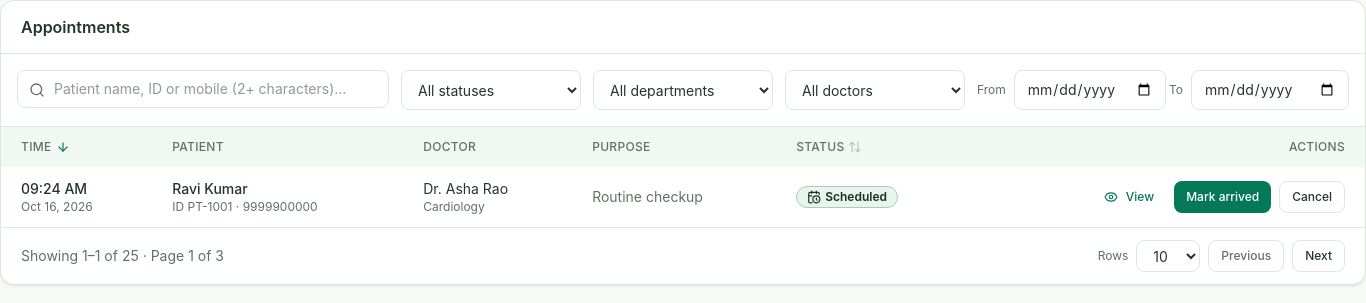
AppointmentList: server-side query › paginates on the server
Check: the text "Ravi Kumar" is shown, box [172,180,248,197]
Check: the button "Previous" is disabled, box [1208,240,1284,272]
Click the button "Next" at (1319, 256), box [1292,240,1345,272]
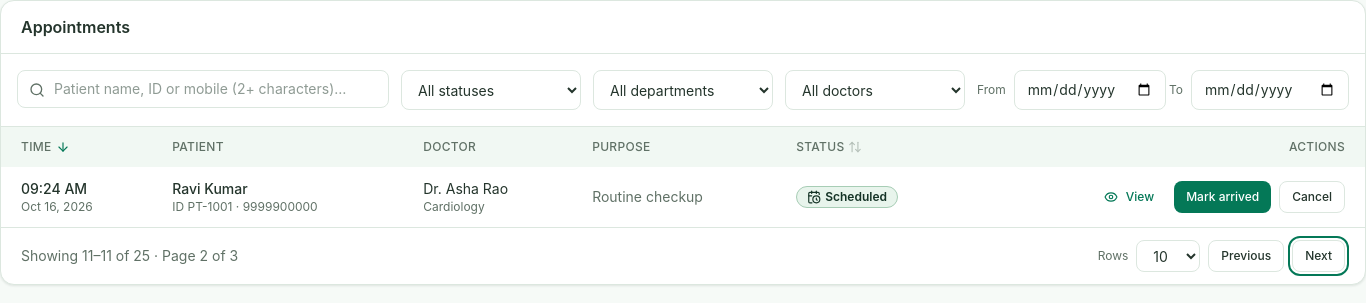
Check: the button "Previous" is enabled, box [1208,240,1284,272]
